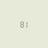eight: (19, 19, 22, 27)
one: (23, 19, 26, 28)
